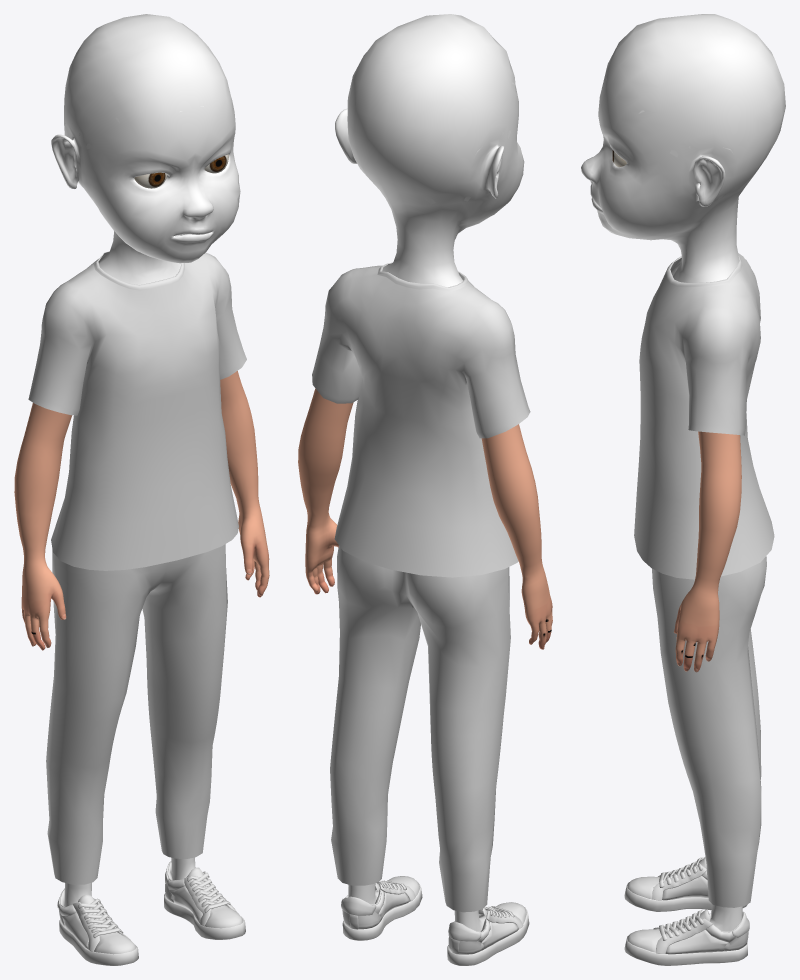
Rendered from Furious.fbx.
3 views of the same model, side by side, from view 1: azimuth 30°, elevation 25°; view 2: azimuth 150°, elevation 25°; view 3: azimuth 270°, elevation 25° (orthographic).
Parts seen in each view (by area): view 1: tshirt_low, body_low, pant_low, back_low; view 2: tshirt_low, body_low, pant_low, back_low; view 3: body_low, tshirt_low, pant_low, back_low.
Part boxes in pixels (x1,y1,x2,y2): tshirt_low: (28,251,246,570); body_low: (14,14,269,906); pant_low: (46,544,227,884); back_low: (57,861,245,965); tshirt_low: (312,262,530,577); body_low: (298,14,552,931); pant_low: (330,545,510,912); back_low: (341,876,529,965); body_low: (581,14,785,931); tshirt_low: (634,253,774,579); pant_low: (652,556,766,907); back_low: (624,857,749,965).
Bounding box in the file's own units: 19.39 × 70.89 × 14.51.
4 materials, 1 textured.
